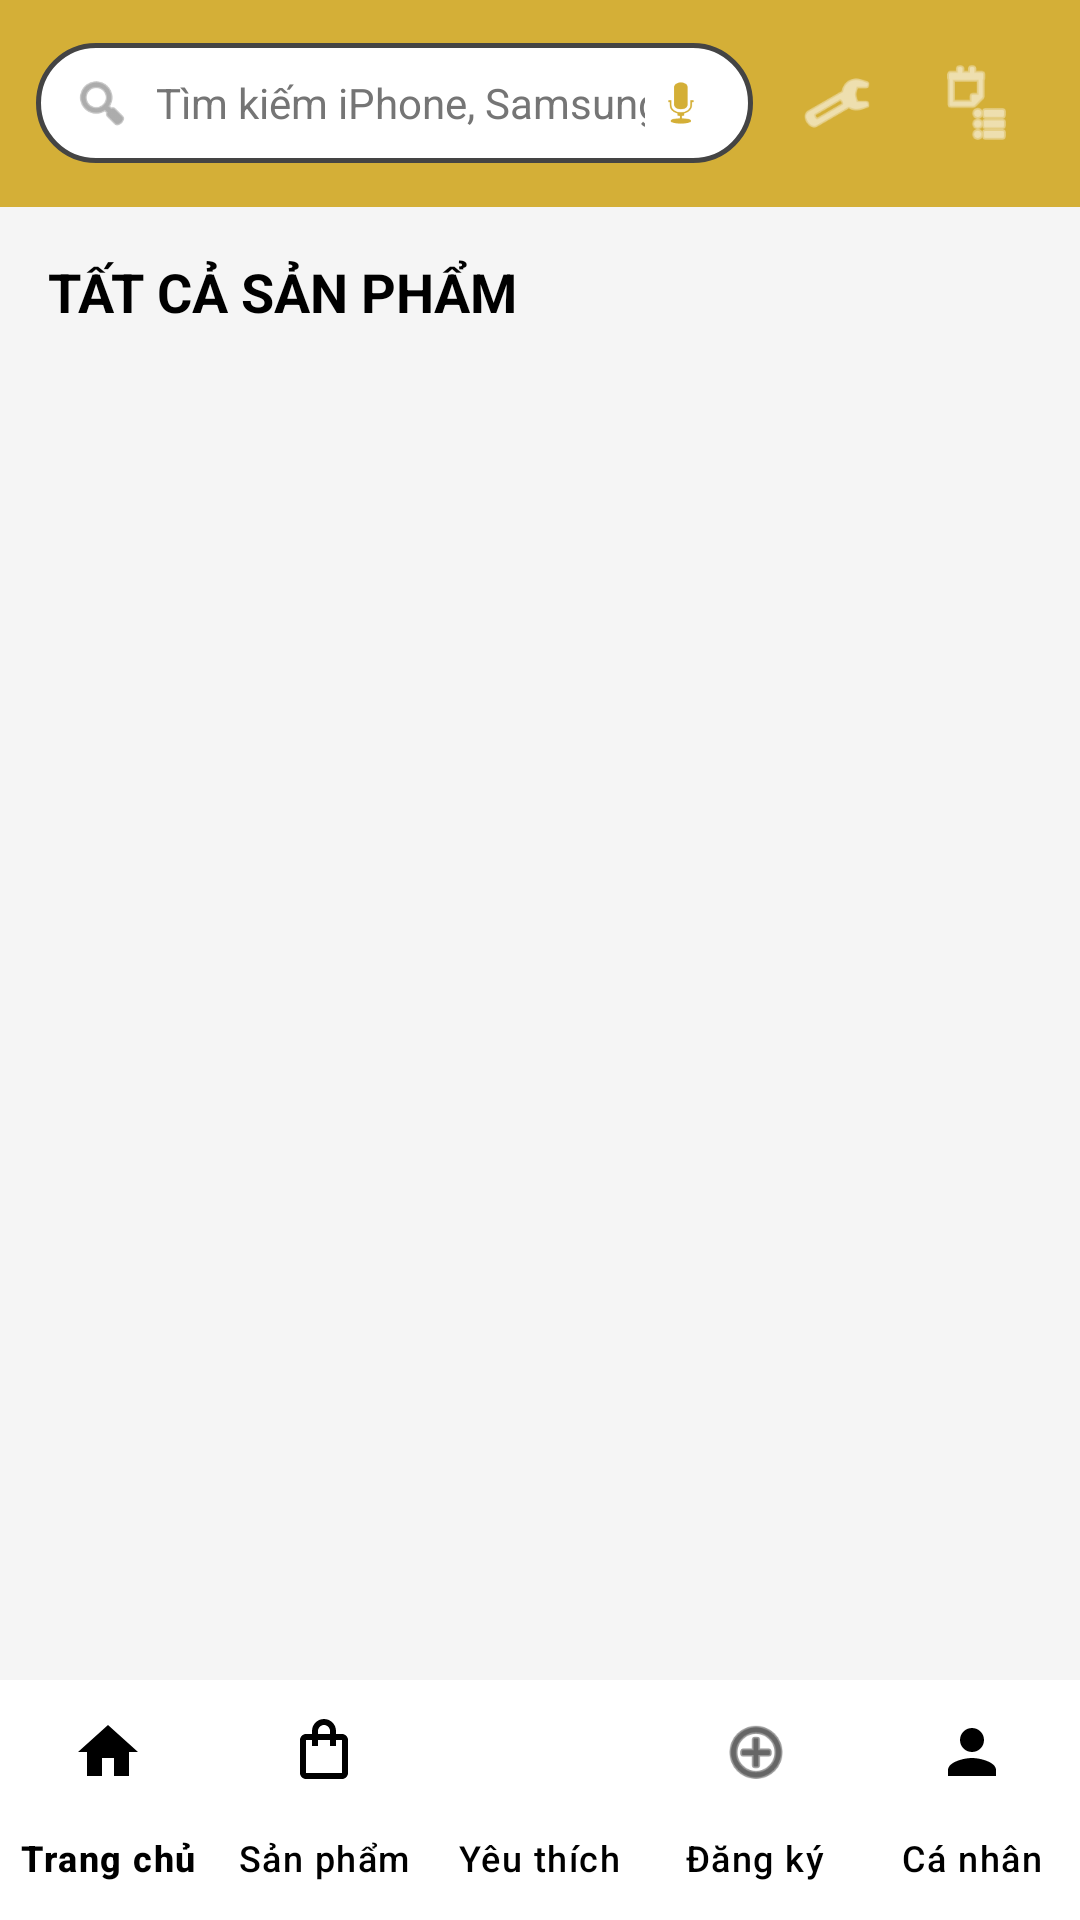

Point at icon controls on the screen. Image size 1080w x 1920h, points as (x=x, y=y).
agenda: (x=976, y=102)
manage: (x=837, y=103)
search: (x=102, y=103)
speak now: (x=681, y=103)
